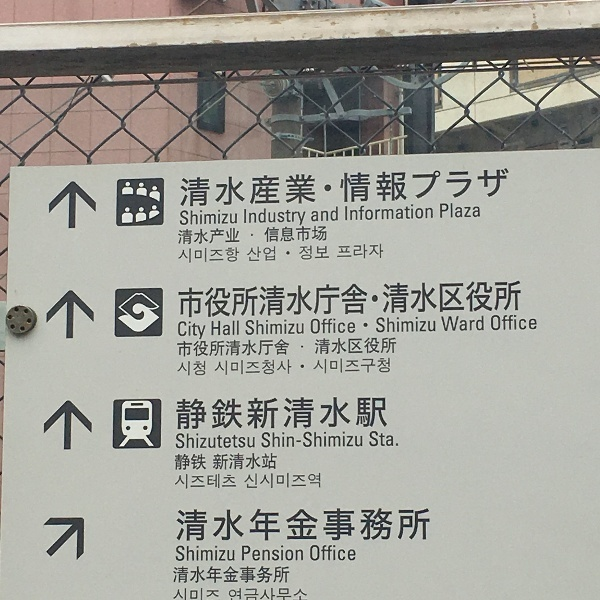text: (193, 169, 208, 209), (209, 169, 224, 209), (225, 169, 240, 209), (241, 169, 256, 209), (257, 169, 272, 209), (273, 169, 288, 209), (289, 169, 304, 209), (305, 169, 320, 209), (321, 169, 336, 209), (337, 169, 352, 209), (353, 169, 368, 209), (369, 169, 384, 209), (385, 169, 400, 209), (401, 169, 416, 209), (417, 169, 432, 209), (433, 169, 448, 209), (449, 169, 464, 209), (465, 169, 480, 209), (481, 169, 496, 209), (193, 281, 208, 319), (209, 281, 224, 319), (225, 281, 240, 319), (241, 281, 256, 319), (257, 281, 272, 319), (273, 281, 288, 319), (289, 281, 304, 319), (305, 281, 320, 319), (321, 281, 336, 319), (337, 281, 352, 319), (353, 281, 368, 319), (369, 281, 384, 319), (385, 281, 400, 319), (401, 281, 416, 319), (417, 281, 432, 319), (433, 281, 448, 319), (449, 281, 464, 319), (465, 281, 480, 319), (481, 281, 496, 319), (497, 281, 512, 319), (193, 397, 208, 433), (209, 397, 224, 433), (225, 397, 240, 433), (241, 397, 256, 433), (257, 397, 272, 433), (273, 397, 288, 433), (289, 397, 304, 433), (305, 397, 320, 433), (321, 397, 336, 433), (337, 397, 352, 433), (353, 397, 368, 433), (369, 397, 384, 433), (178, 281, 192, 319), (178, 397, 192, 433), (177, 510, 192, 543), (193, 510, 208, 543), (209, 510, 224, 543), (225, 510, 240, 543), (241, 510, 256, 543), (257, 510, 272, 543), (273, 510, 288, 543), (289, 510, 304, 543), (305, 510, 320, 543), (321, 510, 336, 543), (337, 510, 352, 543), (353, 510, 368, 543), (369, 510, 384, 543), (385, 510, 400, 543), (401, 510, 416, 543), (497, 169, 509, 209), (417, 510, 431, 543), (182, 169, 192, 209), (513, 281, 522, 319), (177, 338, 192, 359), (193, 338, 208, 359), (209, 338, 224, 359), (225, 338, 240, 359), (241, 338, 256, 359), (257, 338, 272, 359), (273, 338, 288, 359), (289, 338, 304, 359), (305, 338, 320, 359), (321, 338, 336, 359), (337, 338, 352, 359), (353, 338, 368, 359), (369, 338, 384, 359), (257, 208, 272, 228), (273, 208, 288, 228), (289, 208, 304, 228), (193, 226, 208, 246), (209, 226, 224, 246), (225, 226, 240, 246), (241, 226, 256, 246), (257, 226, 272, 246), (273, 226, 288, 246), (289, 226, 304, 246), (305, 226, 320, 246), (178, 226, 192, 246), (353, 204, 368, 222), (369, 204, 384, 222), (385, 204, 400, 222), (401, 204, 416, 222), (417, 204, 432, 222), (369, 430, 384, 448), (177, 545, 192, 563), (193, 545, 208, 563), (209, 545, 224, 563), (465, 203, 481, 219), (305, 473, 321, 489), (193, 209, 208, 226), (209, 209, 224, 226), (257, 319, 272, 336), (273, 319, 288, 336), (289, 319, 304, 336), (449, 315, 464, 332), (465, 315, 480, 332), (177, 434, 192, 451), (193, 434, 208, 451), (209, 434, 224, 451), (225, 434, 240, 451), (273, 432, 288, 449), (289, 432, 304, 449), (305, 432, 320, 449), (321, 432, 336, 449), (337, 432, 352, 449), (177, 454, 192, 471), (225, 454, 240, 471), (241, 454, 256, 471), (257, 454, 272, 471), (257, 545, 272, 562), (273, 545, 288, 562), (289, 545, 304, 562), (321, 545, 336, 562), (337, 545, 352, 562), (177, 567, 192, 584), (193, 567, 208, 584), (209, 567, 224, 584), (225, 567, 240, 584), (241, 567, 256, 584), (257, 567, 272, 584), (273, 567, 288, 584), (193, 247, 208, 264), (209, 247, 224, 264), (225, 247, 240, 264), (225, 359, 240, 376), (241, 359, 256, 376), (257, 359, 272, 376), (273, 359, 288, 376), (305, 245, 320, 262), (178, 322, 192, 340), (385, 338, 397, 359), (385, 430, 399, 448), (244, 208, 256, 228), (321, 207, 336, 223), (449, 203, 464, 219), (497, 315, 512, 331), (513, 315, 528, 331), (337, 243, 352, 259), (353, 243, 368, 259), (369, 243, 384, 259), (257, 473, 272, 489), (273, 473, 288, 489), (289, 473, 304, 489), (321, 318, 336, 334), (337, 318, 352, 334), (321, 358, 336, 374), (337, 358, 352, 374), (353, 358, 368, 374), (369, 358, 384, 374), (257, 246, 272, 262), (225, 320, 239, 337), (241, 434, 255, 451), (242, 545, 256, 562), (193, 322, 206, 340), (177, 474, 192, 489), (193, 474, 208, 489), (209, 474, 224, 489), (385, 318, 400, 333), (401, 318, 416, 333), (417, 318, 432, 333), (225, 209, 238, 226), (193, 454, 206, 471), (179, 247, 192, 264), (179, 361, 192, 377), (193, 361, 206, 377), (180, 209, 192, 226), (212, 320, 224, 337), (213, 454, 224, 471), (225, 545, 235, 563), (245, 473, 256, 489), (246, 319, 256, 336), (262, 432, 272, 449), (353, 432, 363, 449), (225, 474, 236, 489), (177, 589, 192, 600), (193, 589, 208, 600), (241, 589, 256, 600), (257, 589, 272, 600), (273, 589, 288, 600), (289, 589, 304, 600), (311, 545, 320, 562), (321, 245, 330, 262), (311, 207, 320, 223), (311, 318, 320, 334), (247, 246, 256, 262), (216, 359, 224, 376), (440, 203, 448, 219), (529, 315, 537, 331), (345, 204, 352, 222), (209, 589, 220, 600), (229, 589, 240, 600), (321, 226, 327, 246), (441, 315, 448, 332), (377, 318, 384, 333), (314, 358, 320, 374), (385, 358, 391, 374), (299, 245, 304, 262), (491, 315, 496, 331), (385, 397, 387, 433), (273, 454, 277, 471), (481, 315, 484, 332), (353, 545, 356, 562), (289, 359, 292, 376), (353, 318, 356, 334), (273, 246, 276, 262), (433, 318, 436, 333), (174, 567, 176, 584), (337, 207, 339, 223), (174, 589, 176, 600), (305, 589, 307, 600), (305, 208, 306, 228), (433, 204, 434, 222), (175, 454, 176, 471), (289, 567, 290, 584), (175, 474, 176, 489)
